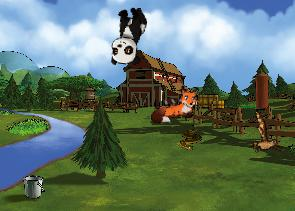eagle: (234, 108, 293, 165)
fox: (147, 83, 203, 125)
panda: (108, 4, 148, 67)
